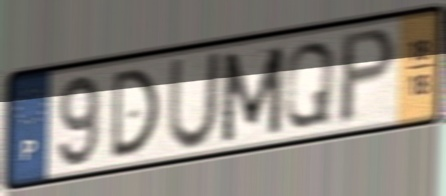9: (54, 72, 103, 169)
D: (108, 65, 162, 163)
M: (218, 42, 287, 146)
P: (335, 24, 400, 130)
Q: (280, 38, 338, 131)
U: (165, 49, 224, 153)
